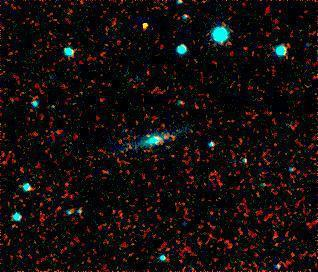star: (128, 15, 158, 45)
